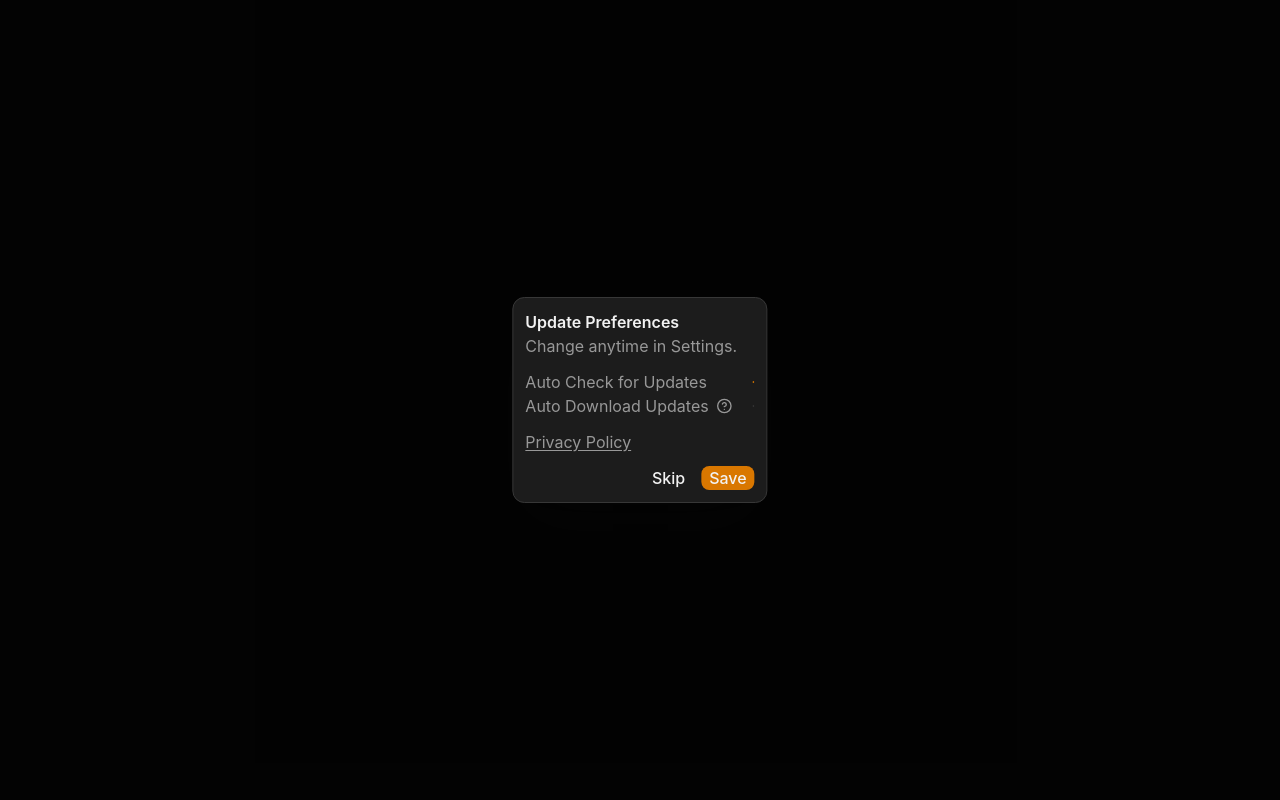
Scenario: first-launch update choice › defaults to checking on and downloading off and retains a failed save
Click the button "Save" at (728, 478), box [701,466,755,490]
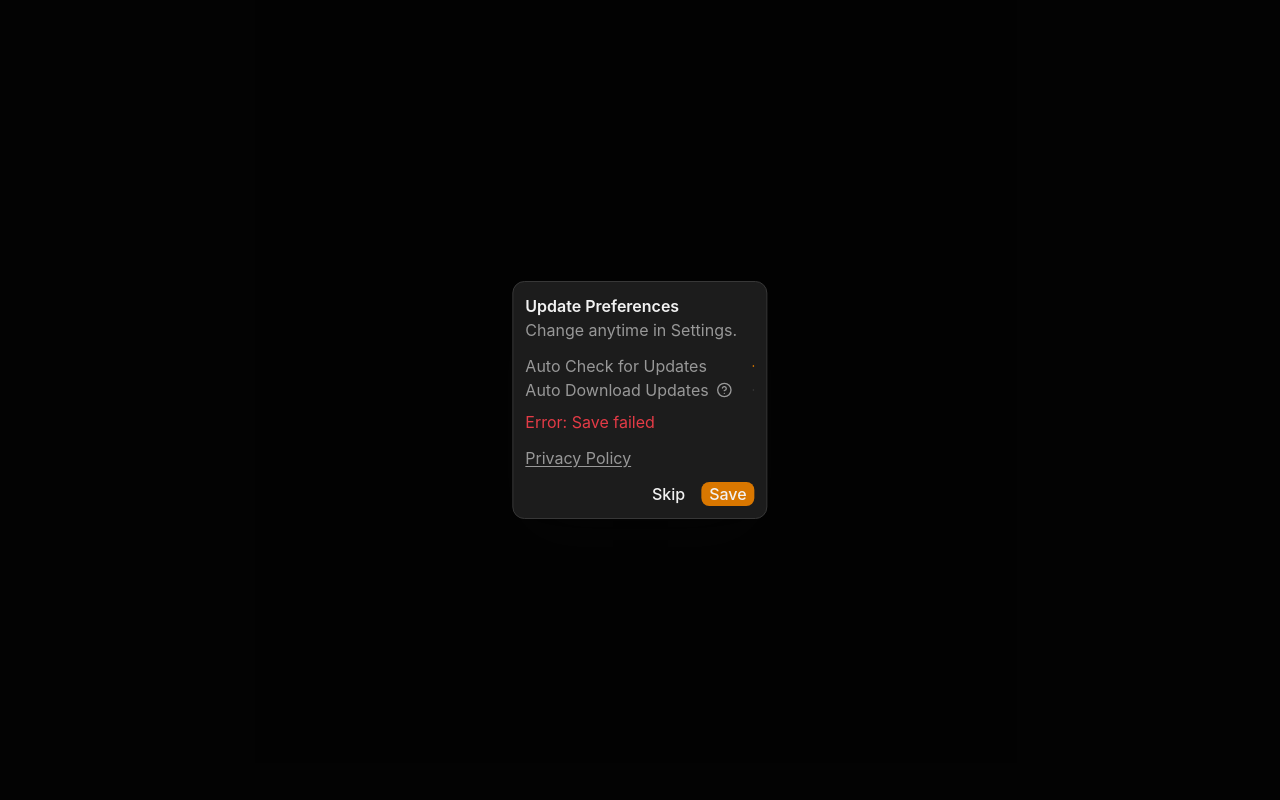
Expected: the message shows "Save failed", [525,412,655,432]
